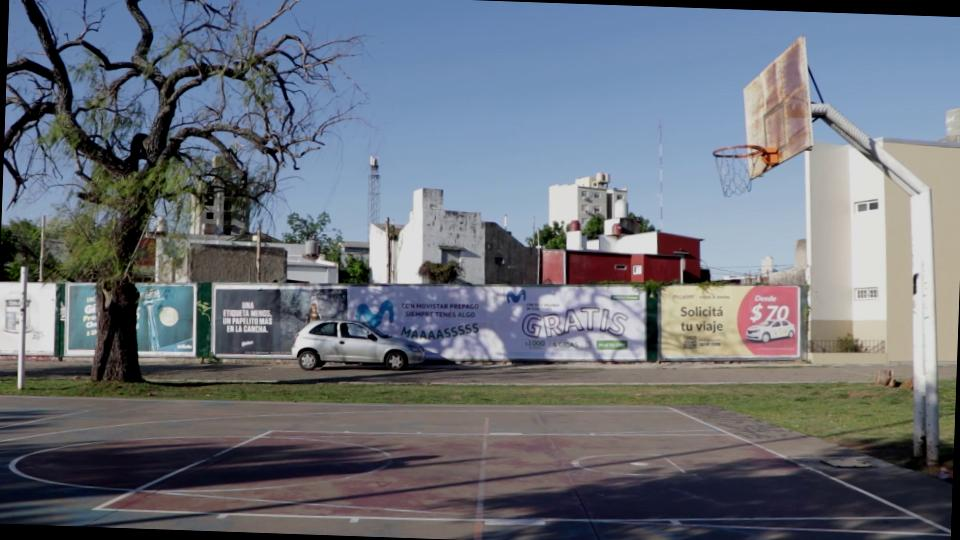hoop: (711, 142, 767, 160)
